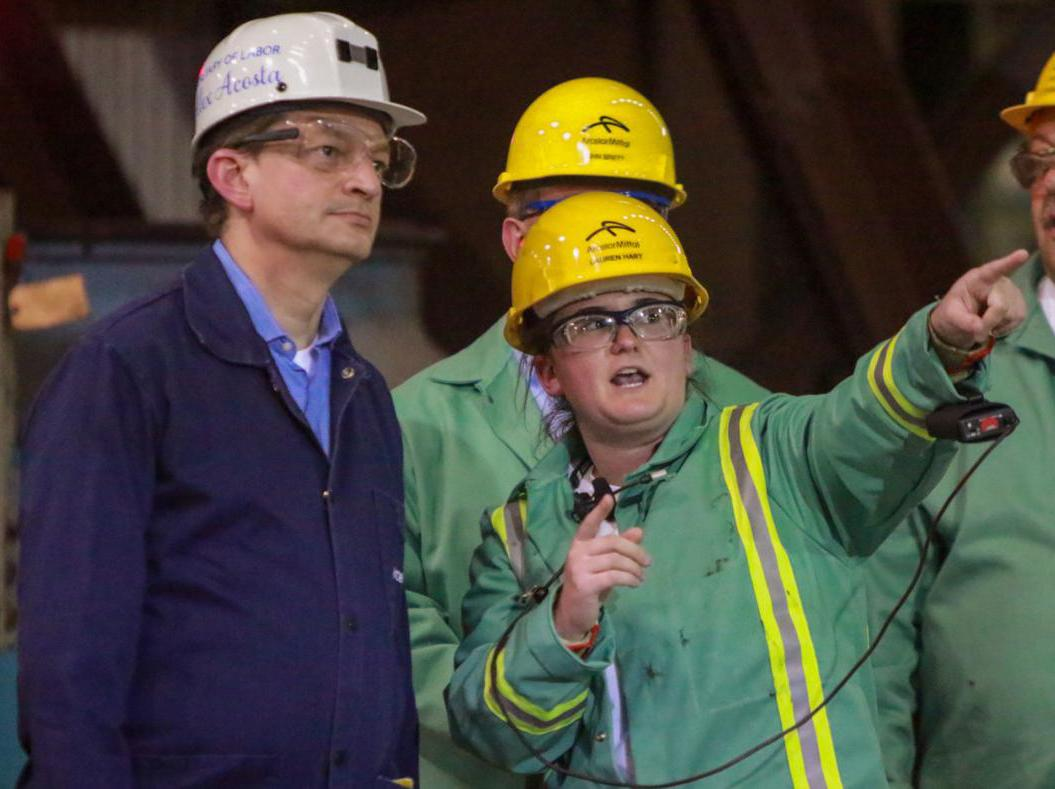helmet: (500, 191, 728, 359), (191, 12, 423, 135), (497, 75, 690, 202), (992, 43, 1055, 134)
